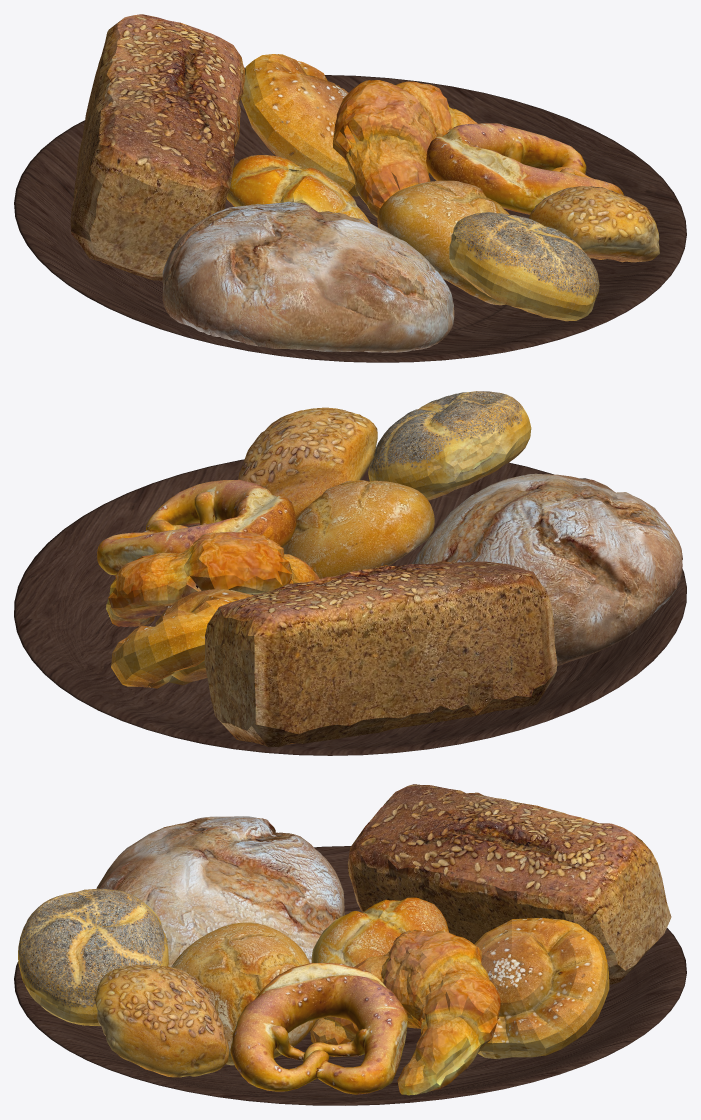
File: bakery_products_collection.glb
The picture shows the model from 3 angles, top to bottom: view 1: azimuth 30°, elevation 25°; view 2: azimuth 150°, elevation 25°; view 3: azimuth 270°, elevation 25°; orthographic projection. The views are drawn at different scales.
Parts seen in each view (by area): view 1: Object_5, Object_6, Object_11, Object_2, Object_8, Object_9, Object_10, Object_4, Object_3, Object_7; view 2: Object_11, Object_5, Object_6, Object_2, Object_8, Object_3, Object_4, Object_9, Object_10; view 3: Object_11, Object_6, Object_5, Object_9, Object_8, Object_10, Object_2, Object_4, Object_3, Object_7.
Part boxes in pixels (bbox=[...]): Object_5: bbox=[14, 75, 686, 362]; Object_6: bbox=[162, 201, 454, 352]; Object_11: bbox=[70, 14, 245, 280]; Object_2: bbox=[449, 212, 599, 321]; Object_8: bbox=[333, 80, 477, 217]; Object_9: bbox=[426, 123, 623, 214]; Object_10: bbox=[241, 54, 358, 196]; Object_4: bbox=[529, 186, 659, 262]; Object_3: bbox=[377, 180, 509, 305]; Object_7: bbox=[226, 155, 370, 223]; Object_11: bbox=[204, 561, 557, 747]; Object_5: bbox=[14, 459, 686, 755]; Object_6: bbox=[412, 473, 682, 666]; Object_2: bbox=[368, 391, 531, 500]; Object_8: bbox=[106, 531, 319, 626]; Object_3: bbox=[283, 480, 434, 578]; Object_4: bbox=[238, 407, 377, 517]; Object_9: bbox=[97, 479, 296, 575]; Object_10: bbox=[111, 589, 253, 688]; Object_11: bbox=[347, 784, 671, 984]; Object_6: bbox=[96, 816, 344, 966]; Object_5: bbox=[14, 846, 686, 1105]; Object_9: bbox=[230, 963, 407, 1094]; Object_8: bbox=[310, 929, 500, 1095]; Object_10: bbox=[474, 917, 609, 1058]; Object_2: bbox=[18, 888, 168, 1025]; Object_4: bbox=[94, 964, 228, 1077]; Object_3: bbox=[171, 922, 316, 1065]; Object_7: bbox=[311, 897, 449, 966].
Bounding box in the file's own units: 0.4379 × 0.1256 × 0.4791.
10 materials, 10 textured.
